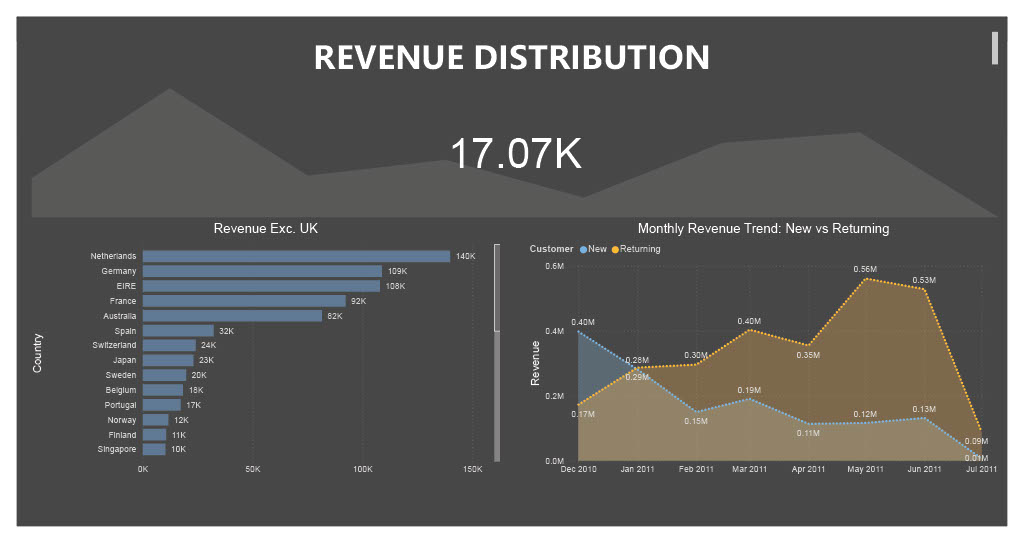

What the dashboard file says about the page in this screenshot:
{"tool":"powerbi","page":{"name":"Revenue Distribution","canvas":[1400,720],"ordinal":2},"visuals":[{"type":"clusteredBarChart","title":"Revenue Exc. UK","fields":{"Category":["edata_customer_type.Country"],"Y":["edata_customer_type.Revenue Ex. UK"]},"box":[16,288,672,368],"z":0},{"type":"lineChart","title":"Monthly Revenue Trend: New vs Returning","fields":{"Category":["edata_customer_type.Year_Month"],"Y":["edata_customer_type.Total Revenue"],"Series":["edata_customer_type.CustomerType"]},"box":[720,288,672,368],"z":1000},{"type":"textbox","box":[16,16,1376,64],"z":2000},{"type":"kpi","title":"Monthly Revenue","fields":{"Indicator":["edata_customer_type.Total Revenue"],"TrendLine":["edata_customer_type.Year_Month"]},"box":[16,96,1376,192],"z":3000}]}

Visuals, with their boxes on the page's 1400x720 design canvas (x1, y1, x2, y2). These are canvas units, not pixel positions in the 1024x543 screenshot, which may show the page scaled, cropped or inside an application window:
"Revenue Exc. UK" clusteredBarChart: (16, 288, 688, 656)
"Monthly Revenue Trend: New vs Returning" lineChart: (720, 288, 1392, 656)
textbox: (16, 16, 1392, 80)
"Monthly Revenue" kpi: (16, 96, 1392, 288)
